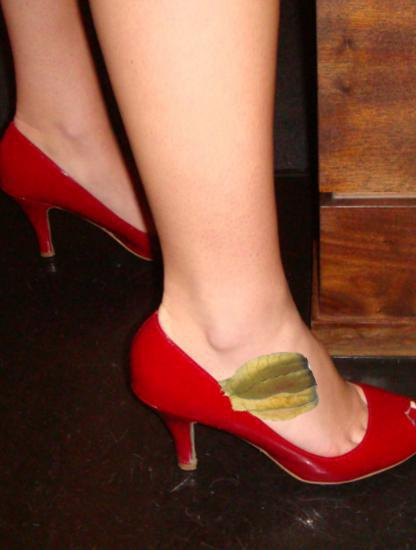Physalis: (221, 343, 317, 439)
